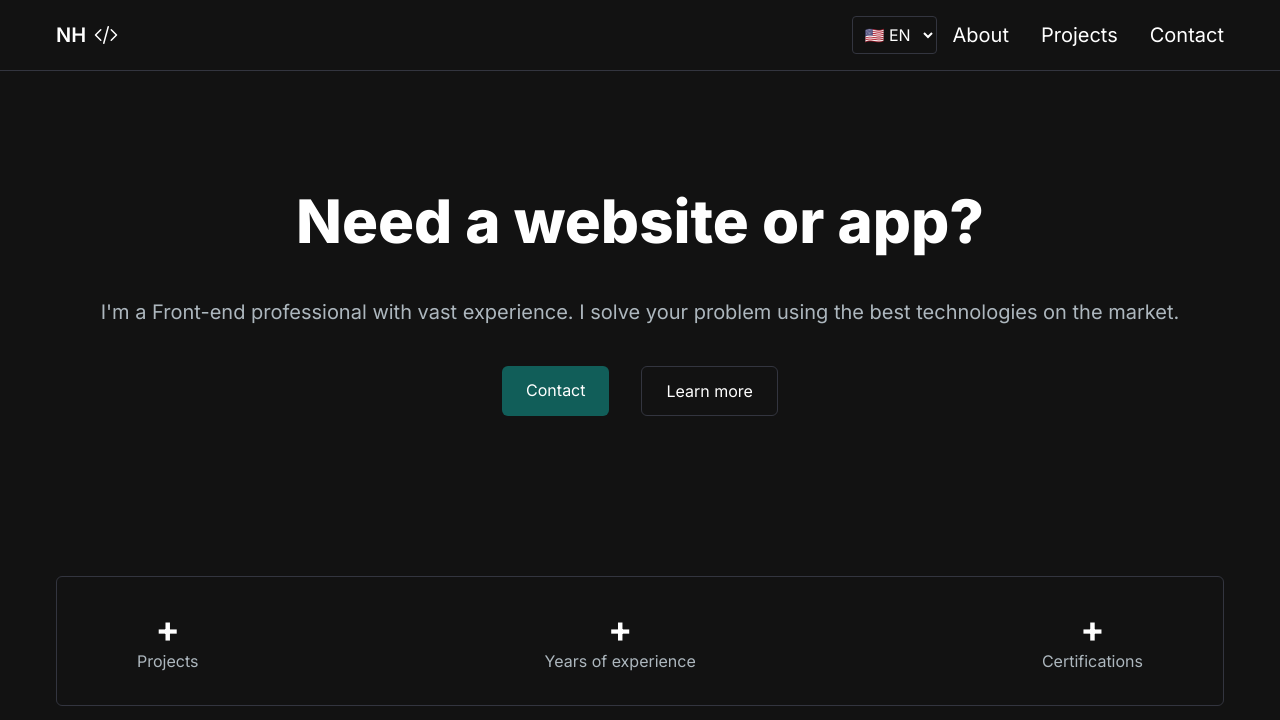
Test: Language Switcher Tests › should switch between English and Portuguese
expect the heading "Need a website or app?" is shown: met, box x1=296 y1=176 x2=984 y2=266
expect the button "About" is shown: met, box x1=952 y1=21 x2=1009 y2=49
# Switch to Portuguese
Select "🇧🇷 BR" in the dropdown named "Select language" at (895, 35), box x1=852 y1=16 x2=937 y2=54
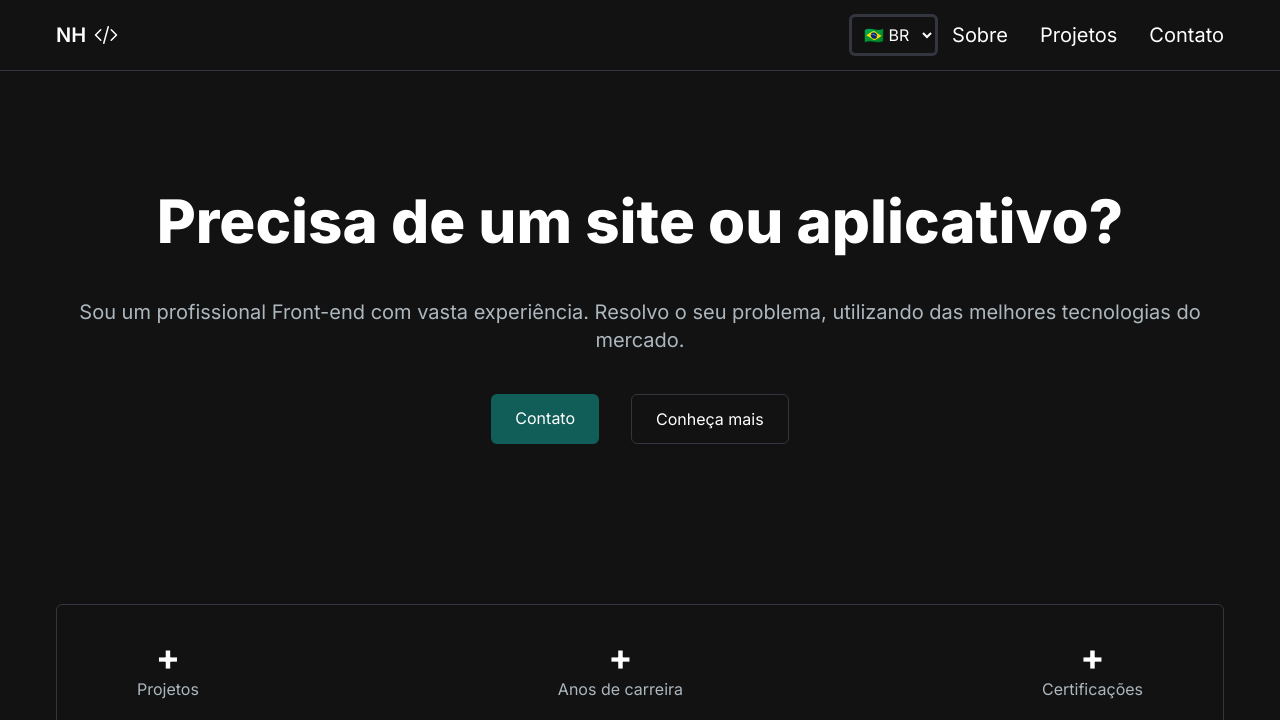
expect the heading "Precisa de um site ou aplicativo?" is shown: met, box x1=157 y1=176 x2=1123 y2=266
expect the button "Sobre" is shown: met, box x1=952 y1=21 x2=1008 y2=49
expect the button "Projetos" is shown: met, box x1=1040 y1=21 x2=1117 y2=49
# Switch back to English
Select "🇺🇸 EN" in the dropdown named "Select language" at (894, 35), box x1=851 y1=16 x2=936 y2=54
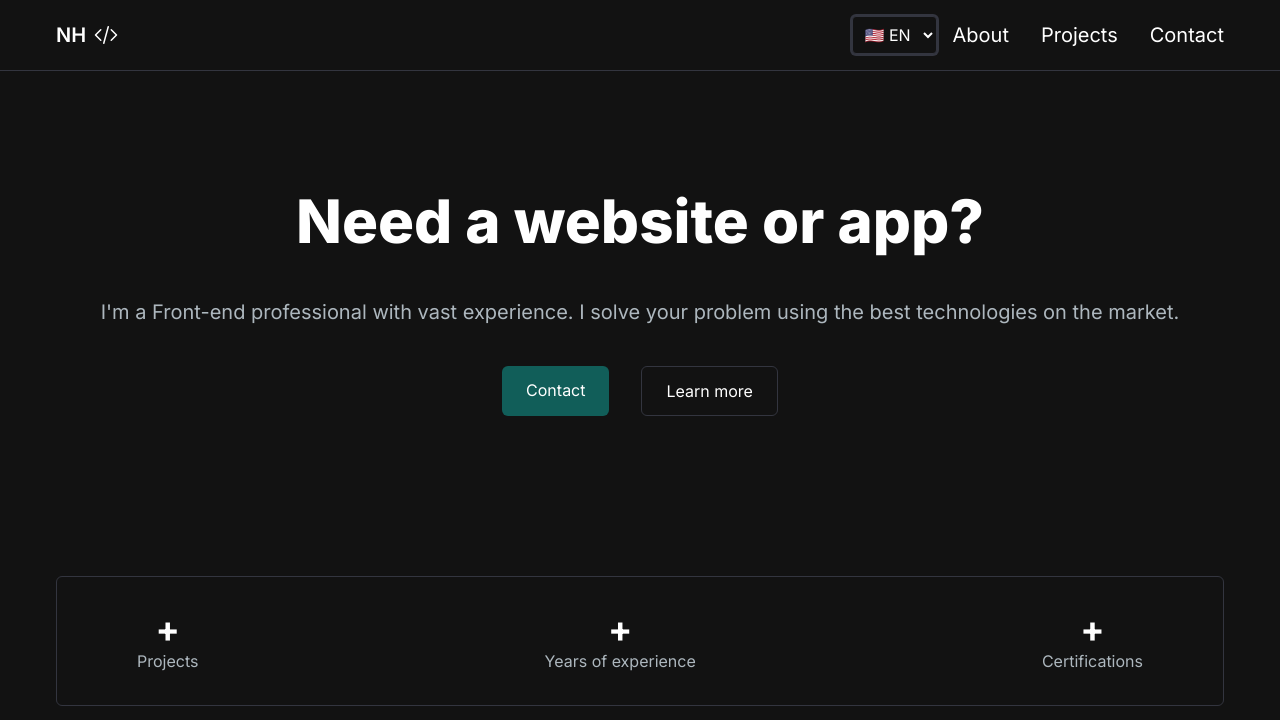
expect the heading "Need a website or app?" is shown: met, box x1=296 y1=176 x2=984 y2=266
expect the button "About" is shown: met, box x1=952 y1=21 x2=1009 y2=49
